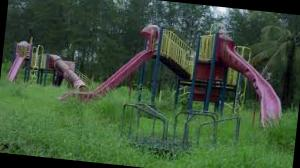overgrown grass: (0, 73, 294, 168), (89, 86, 128, 121), (131, 90, 137, 101)
